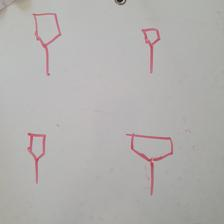dna-stability-element: (128, 133, 174, 195), (33, 13, 61, 75), (28, 132, 46, 184), (142, 29, 161, 73)
